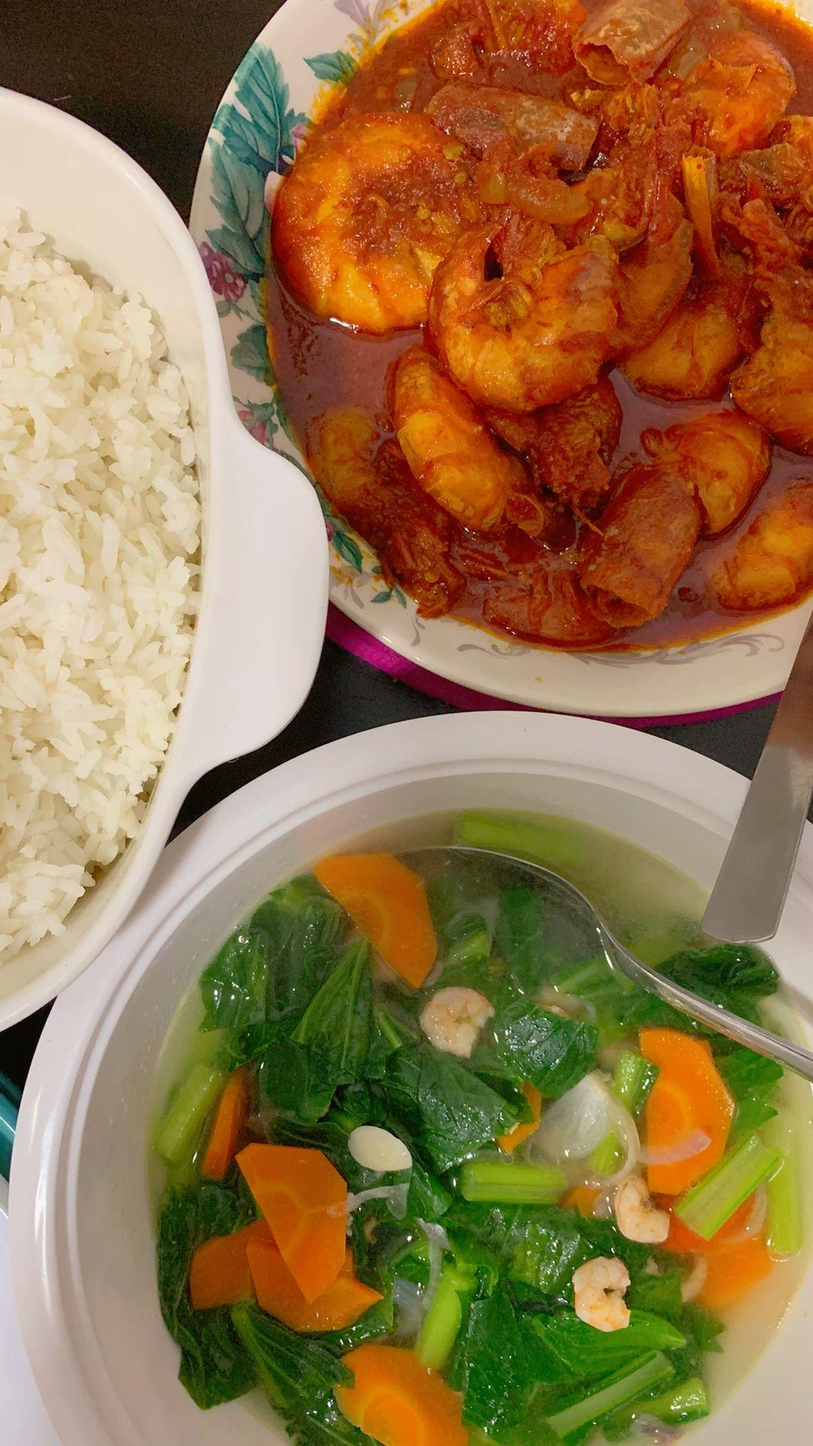buah_sayur_lainnya: (381, 1016, 596, 1250), (260, 919, 338, 1112)
buah_sayur_vitA: (346, 864, 429, 975), (253, 1152, 334, 1244), (657, 1059, 710, 1171), (361, 1374, 433, 1434)
daging: (302, 143, 440, 304), (465, 252, 577, 393)
makanan_berpati: (11, 325, 139, 749)
